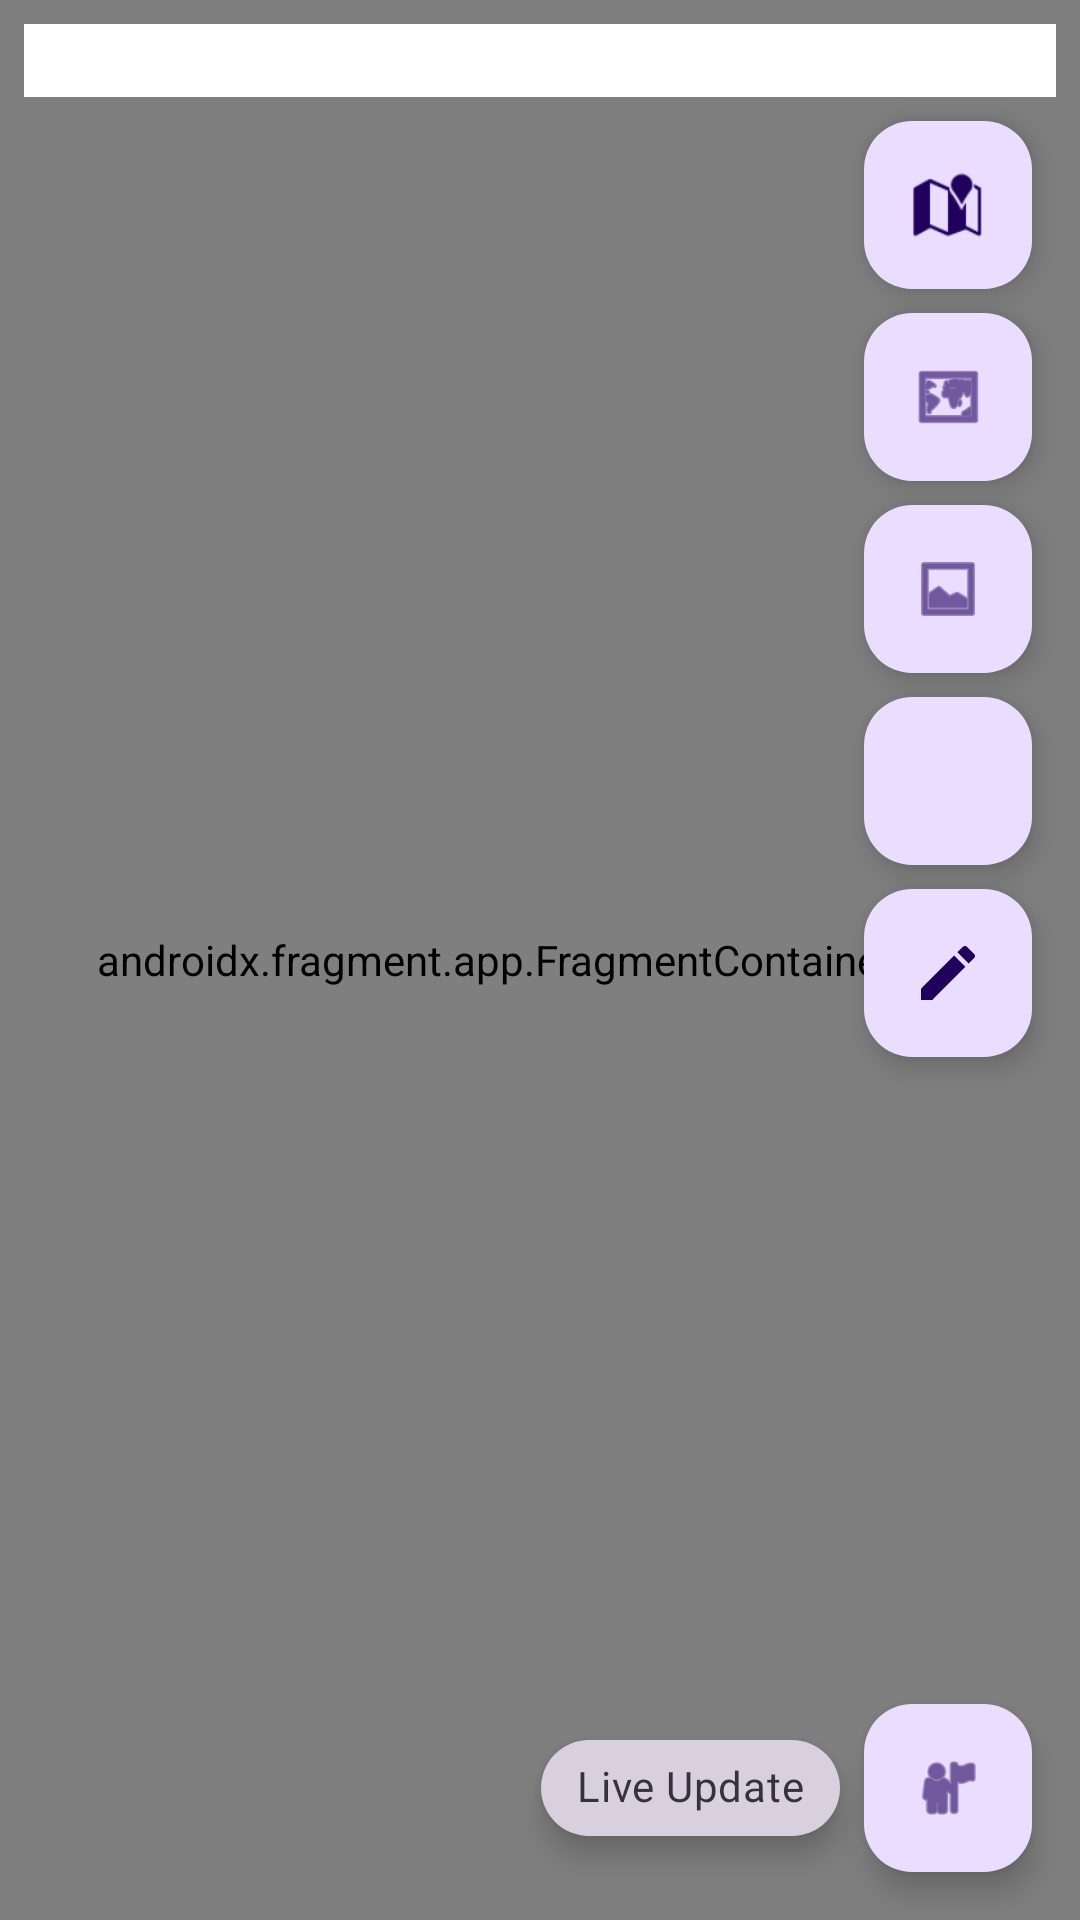

Icon click points for this 1080px x 1920px phone screenshot, format (x=x, y=y):
create: (x=948, y=973)
gallery: (x=948, y=589)
map: (x=948, y=205)
mapmode: (x=948, y=397)
myplaces: (x=948, y=1788)
